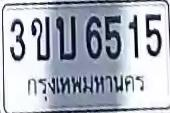1: (128, 14, 138, 58)
3: (9, 18, 25, 61)
5: (144, 13, 162, 56), (104, 15, 121, 58)
6: (85, 15, 101, 58)
A02: (30, 16, 49, 60)
A26: (55, 15, 75, 59)
BKK: (24, 71, 147, 104)
